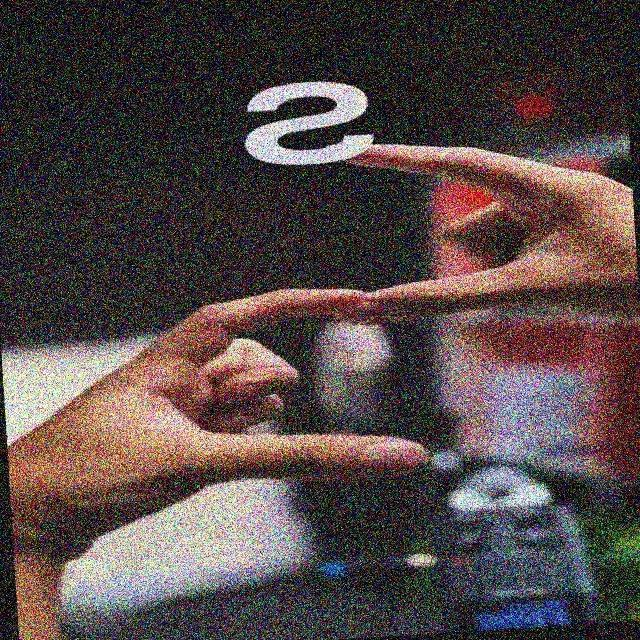S: (122, 138, 587, 496)
